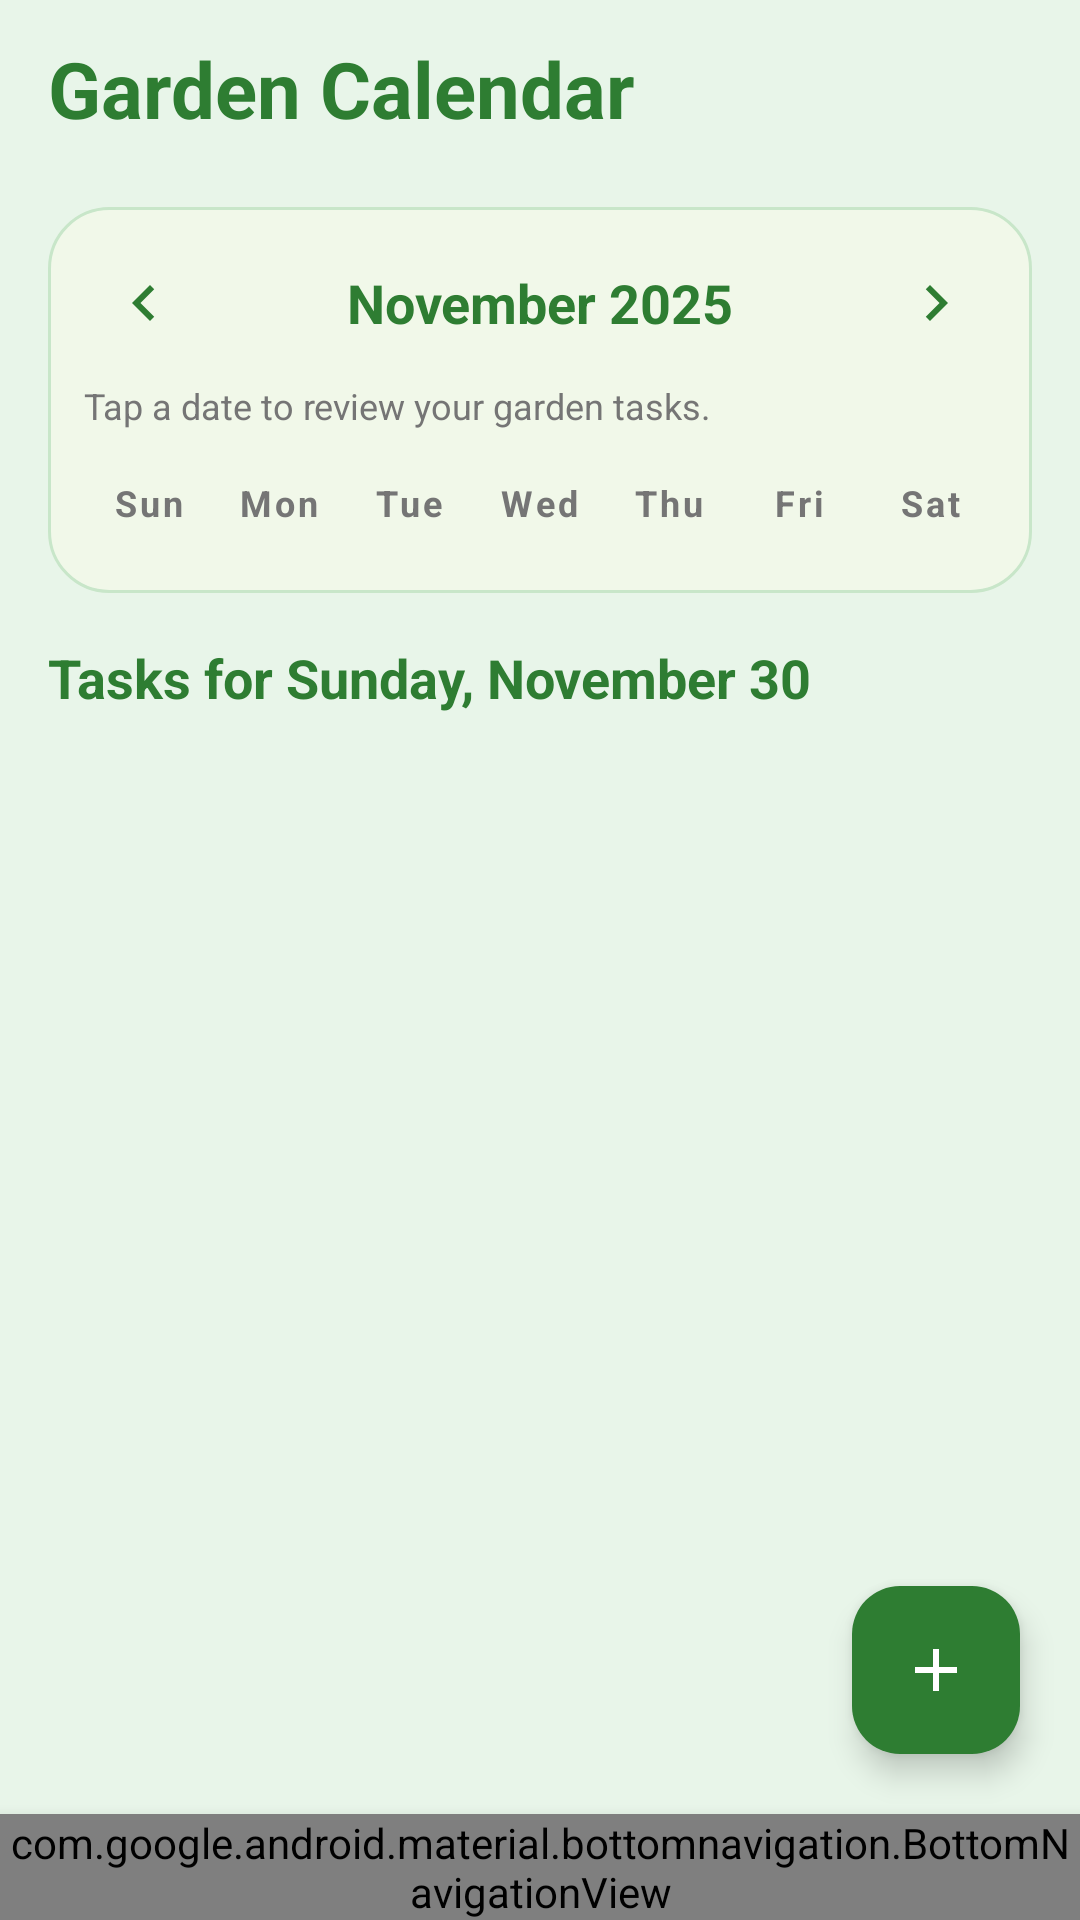

Named icons in this screenshot (1080w x 1920h) and their bounding boxes, (x1, y1, x2, y2):
Add Task: (852, 1586, 1020, 1754)
Next: (926, 285, 948, 321)
Previous: (132, 285, 154, 321)
